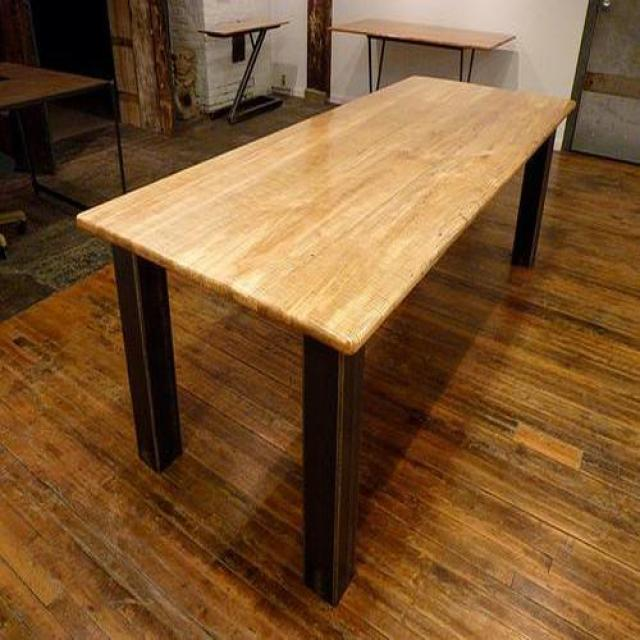table: (76, 77, 577, 608)
